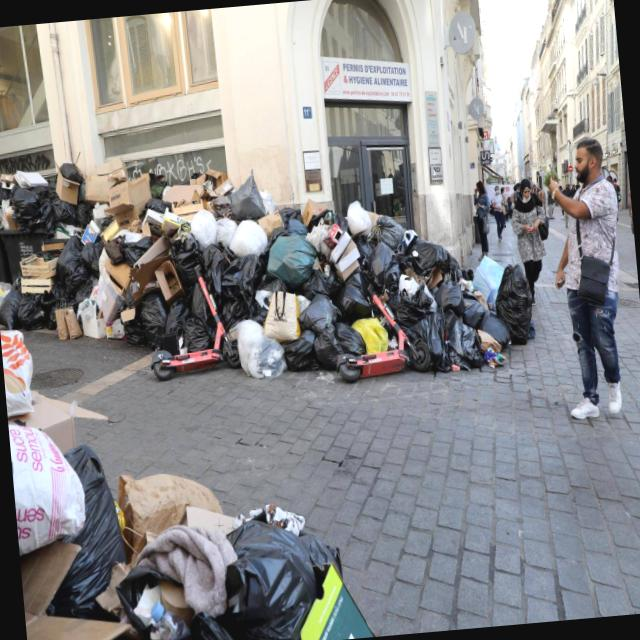garbage: (0, 72, 567, 640)
